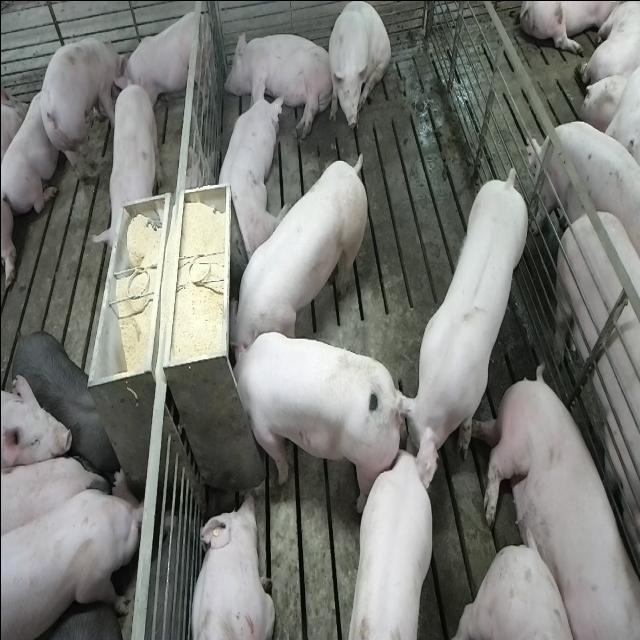Feeding: (228, 144, 372, 362), (222, 330, 396, 510)
Lateral_lying: (470, 364, 636, 640), (223, 28, 333, 140)
Sitting: (325, 2, 390, 136)
Standing: (393, 156, 527, 485), (551, 200, 640, 638), (2, 476, 142, 640), (343, 451, 433, 640), (8, 329, 119, 476), (528, 113, 640, 257), (34, 28, 120, 176), (98, 72, 158, 253)
Sternal_lying: (187, 488, 274, 640), (210, 80, 280, 258), (117, 4, 214, 110), (1, 75, 66, 215)
